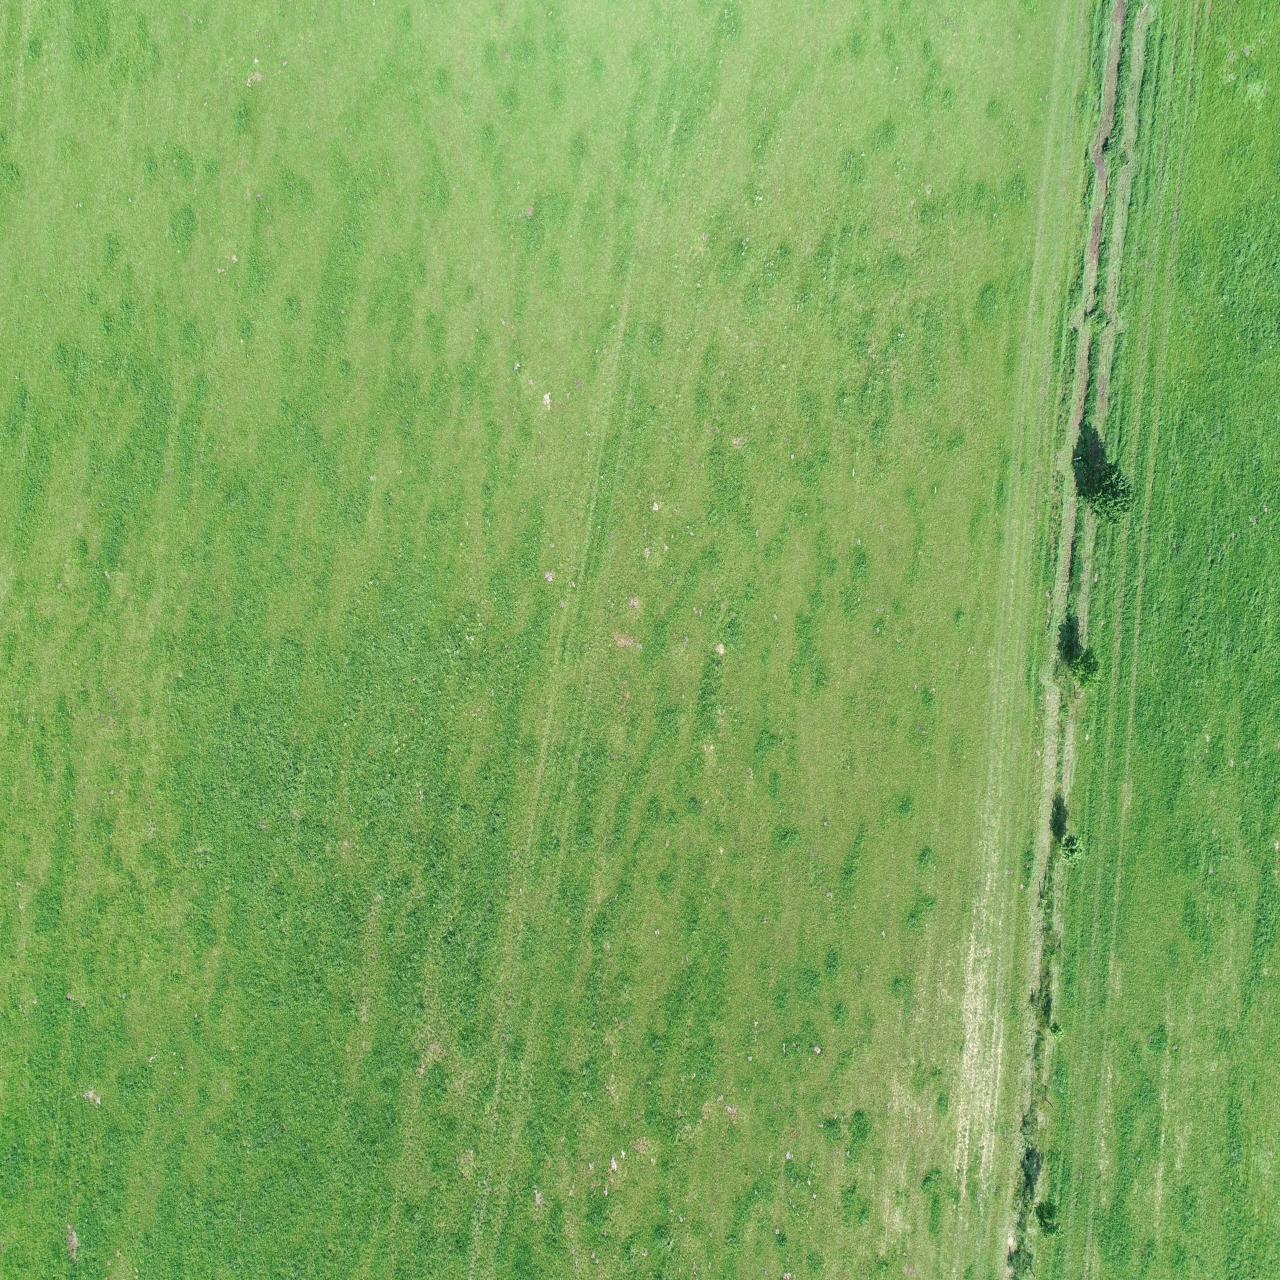cow: (924, 526, 946, 577), (1051, 361, 1070, 415)
